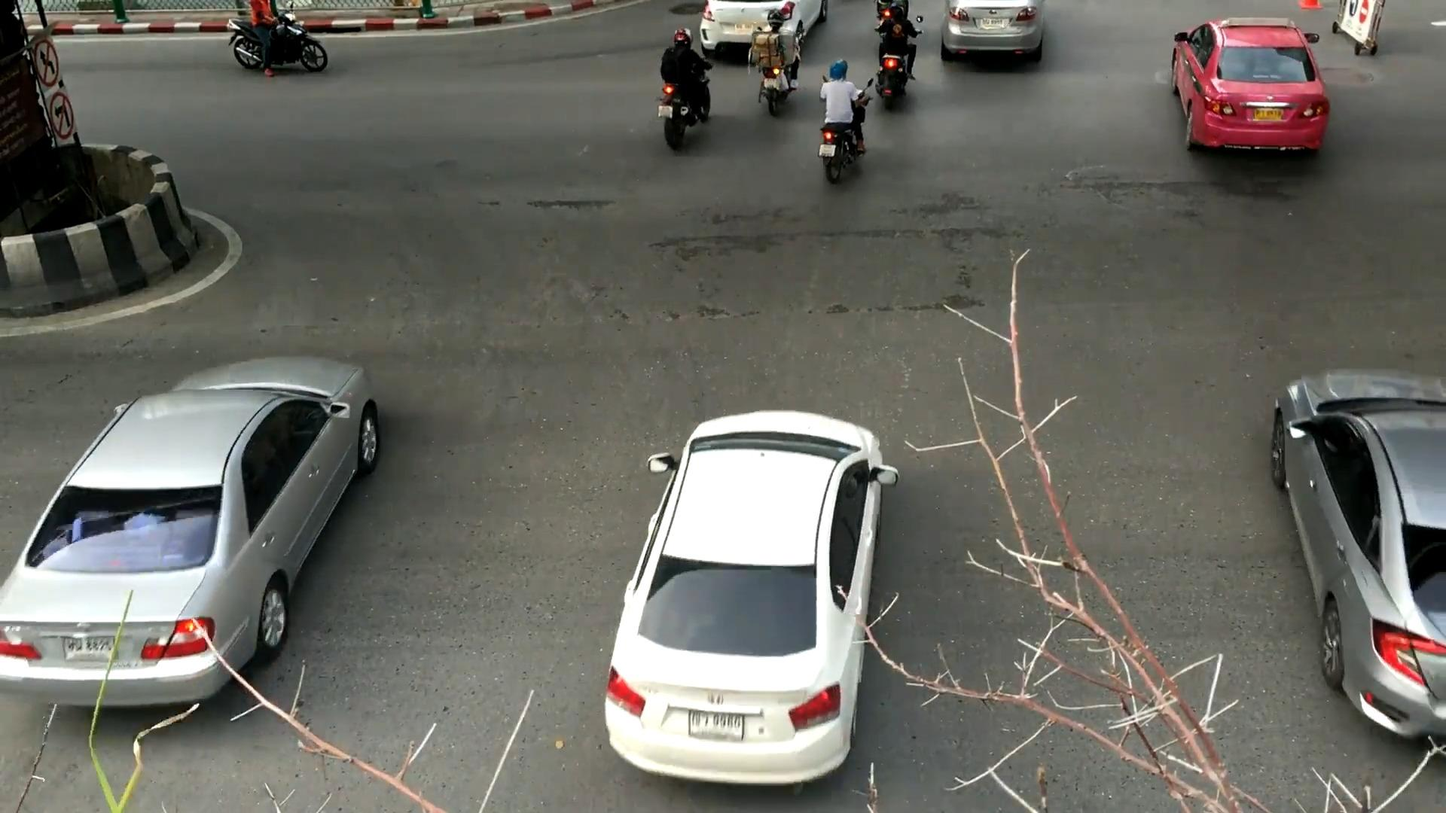driver: (227, 0, 328, 79), (818, 59, 874, 184), (658, 28, 714, 150), (752, 9, 805, 117), (874, 3, 924, 110)
helmet: (829, 59, 848, 80), (674, 28, 693, 49), (767, 9, 785, 29), (889, 3, 905, 21)
